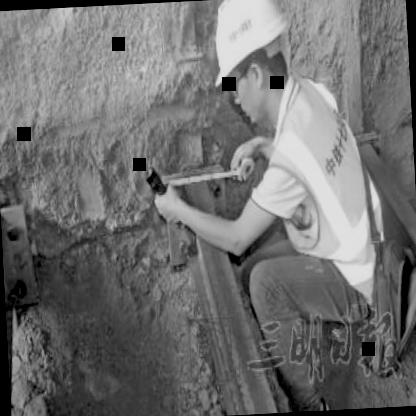helmet: (204, 0, 299, 131)
